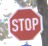stopsign: (8, 7, 43, 42)
